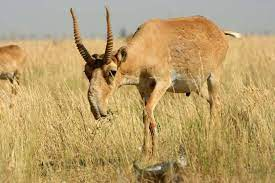saiga: (69, 4, 241, 168)
